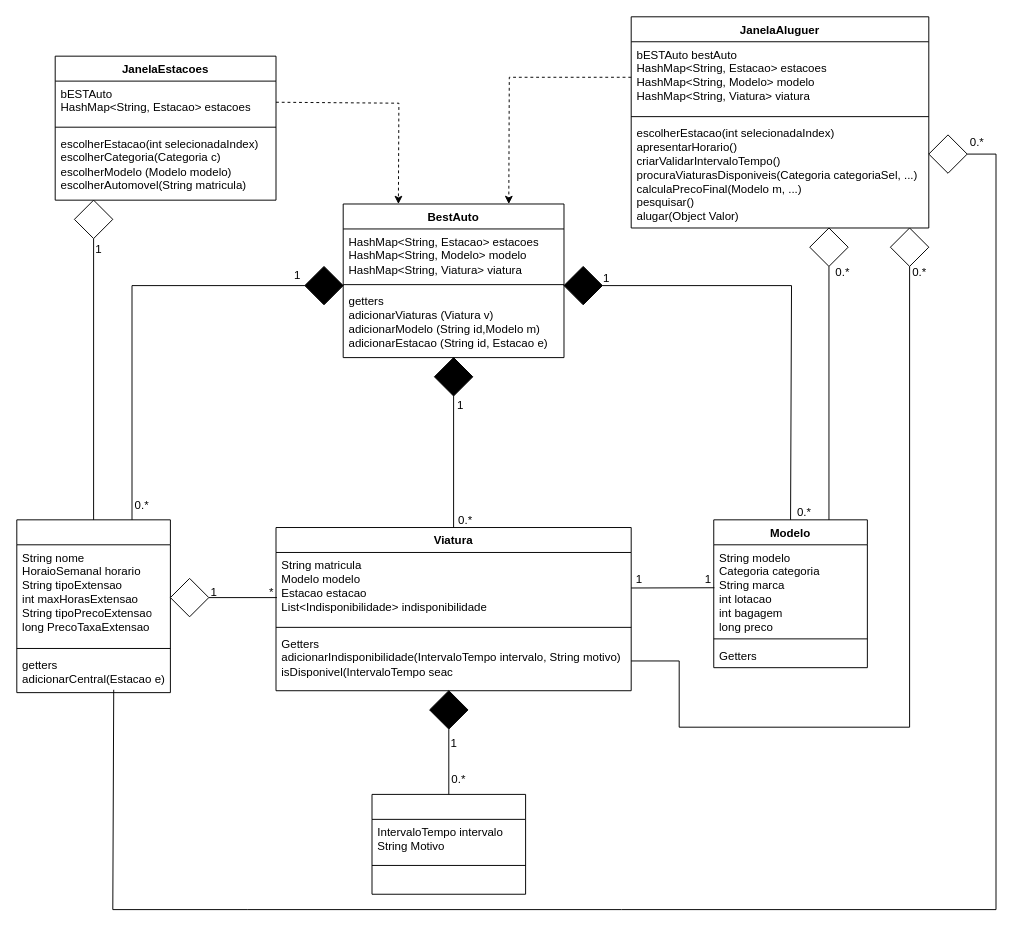
Some shapes in this 1014 by 927 pixel diagram are drawn without their labels. The box of each missing label's shape, as (x1, y1, x2, y2) in pixels:
Estação: (16, 519, 170, 693)
Indisponibilidade: (371, 793, 526, 894)
